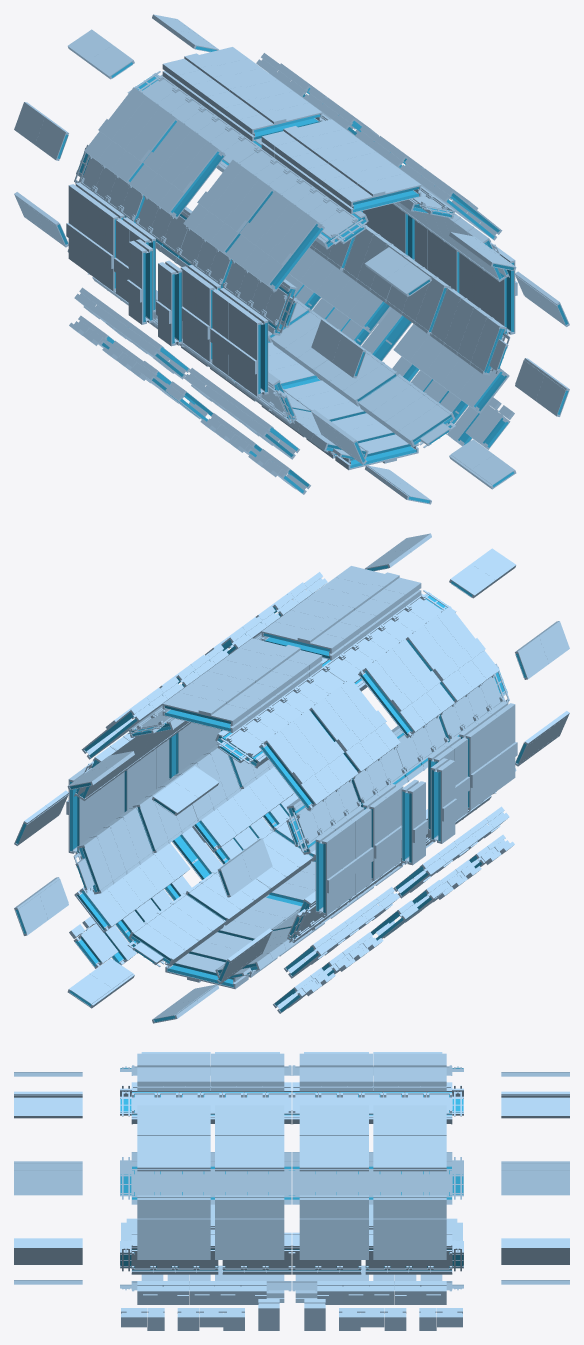
The model's file is muon-barrel-inner.glb.
3 views of the same model, one above another, from view 1: azimuth 30°, elevation 25°; view 2: azimuth 150°, elevation 25°; view 3: azimuth 270°, elevation 25° (orthographic). The views are drawn at different scales.
Visible parts, largest first — view 1: null; view 2: null; view 3: null.
Boxes of the visible parts, x1=… form: null: x1=14, y1=14, x2=569, y2=504; null: x1=14, y1=533, x2=569, y2=1023; null: x1=14, y1=1052, x2=569, y2=1330.
Size of the model in its own units: 11.19 by 10.84 by 23.61.
